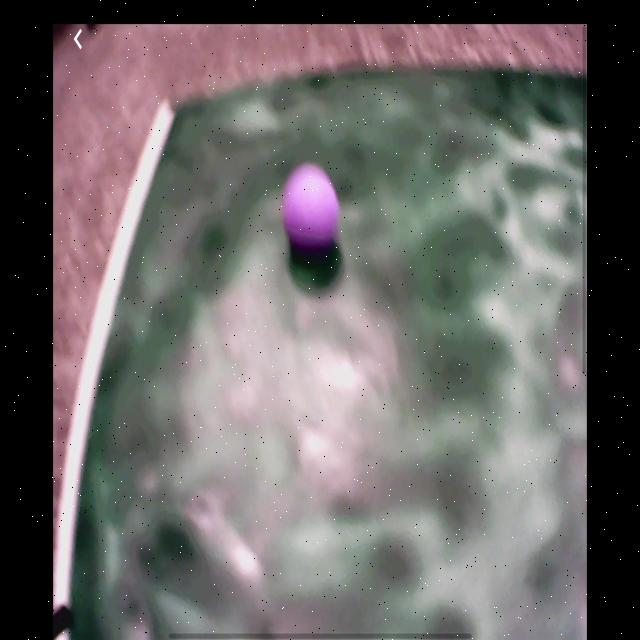ball: (283, 167, 340, 252)
